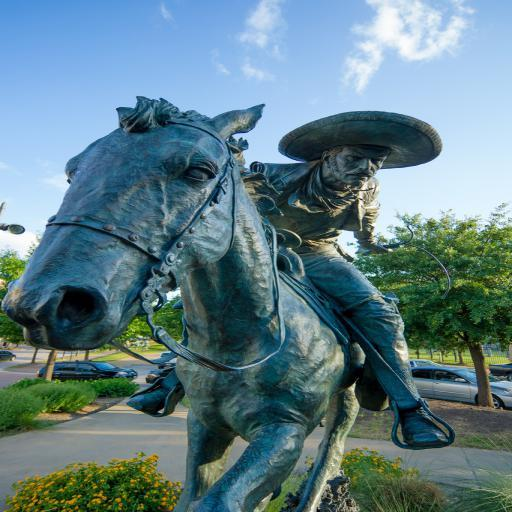Horse: (0, 94, 360, 512)
